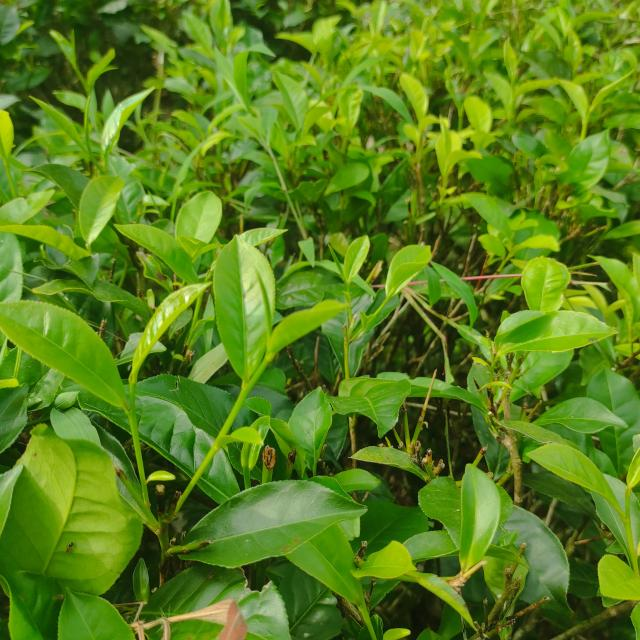unopened_leaf: (250, 262, 278, 352), (78, 90, 98, 158), (323, 240, 351, 284), (144, 187, 165, 218), (65, 25, 81, 57)
